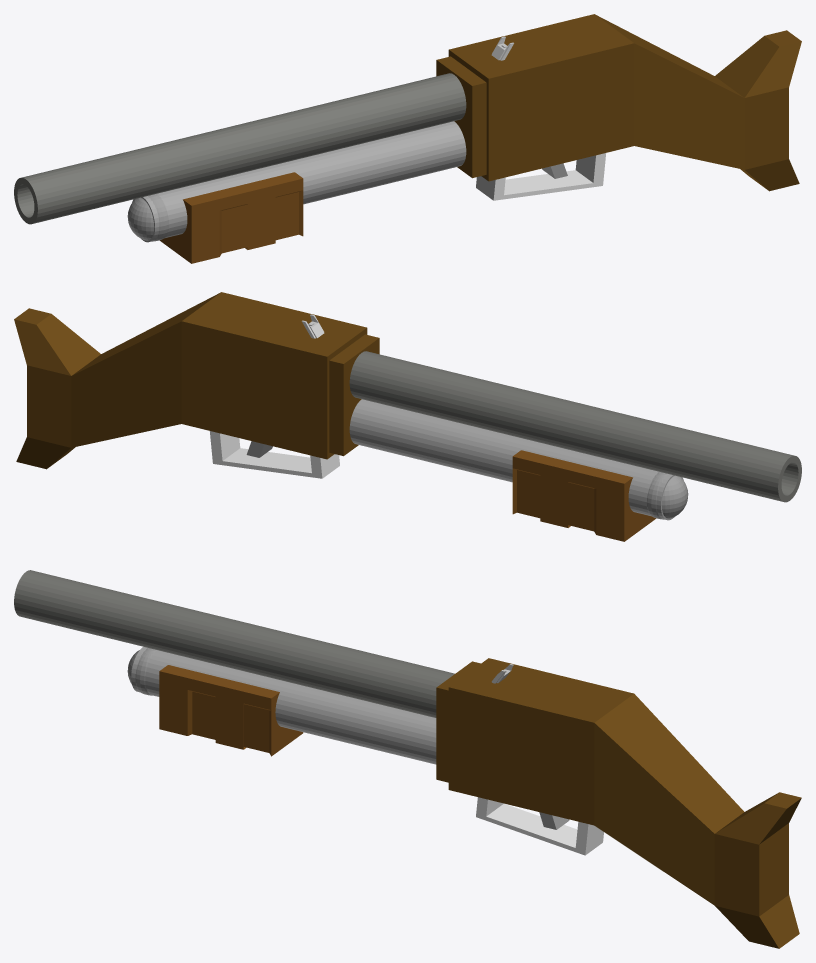
The model's file is Fusil.dae.
The picture shows the model from 3 angles, top to bottom: view 1: azimuth 30°, elevation 25°; view 2: azimuth 150°, elevation 25°; view 3: azimuth 330°, elevation 25°; orthographic projection.
Visible parts, largest first — view 1: Cube, Cylindre.002, Cylindre.001, Cube.003, Cube.001, Sphère; view 2: Cube, Cylindre.002, Cylindre.001, Cube.003, Cube.001, Sphère; view 3: Cube, Cylindre.002, Cylindre.001, Cube.003, Cube.001.
Boxes of the visible parts, bbox=[...] form: Cube: bbox=[436, 14, 801, 191]; Cylindre.002: bbox=[14, 73, 466, 224]; Cylindre.001: bbox=[132, 121, 466, 242]; Cube.003: bbox=[159, 172, 303, 263]; Cube.001: bbox=[476, 153, 606, 200]; Sphère: bbox=[127, 194, 169, 241]; Cube: bbox=[14, 292, 379, 469]; Cylindre.002: bbox=[349, 351, 801, 502]; Cylindre.001: bbox=[349, 399, 683, 520]; Cube.003: bbox=[512, 450, 656, 541]; Cube.001: bbox=[209, 431, 339, 478]; Sphère: bbox=[646, 472, 688, 519]; Cube: bbox=[436, 658, 801, 948]; Cylindre.002: bbox=[14, 570, 454, 717]; Cylindre.001: bbox=[131, 646, 436, 764]; Cube.003: bbox=[159, 665, 303, 756]; Cube.001: bbox=[476, 797, 603, 855].
Bounding box in the file's own units: 22.23 × 2 × 5.66.
